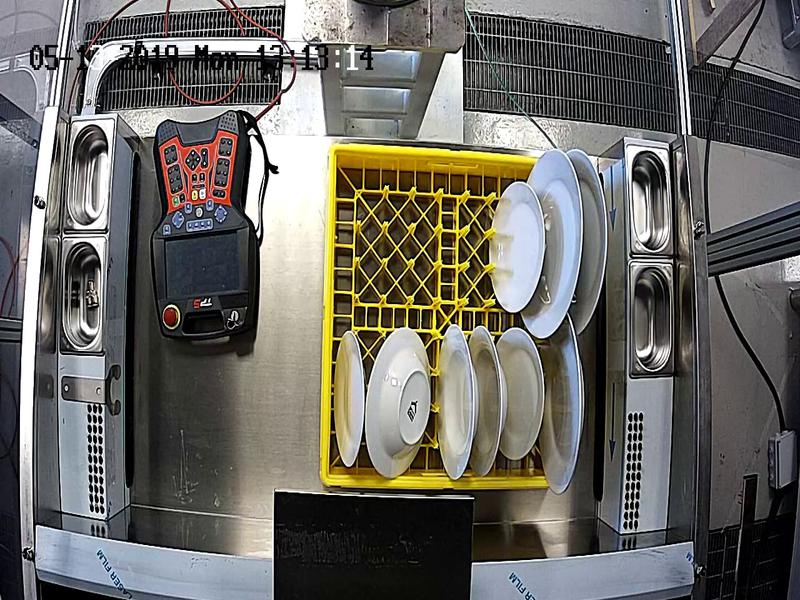Dish: (536, 150, 580, 330), (490, 178, 545, 312), (543, 320, 586, 490), (435, 325, 477, 476), (505, 321, 544, 457), (476, 321, 509, 476), (583, 148, 608, 329), (332, 332, 363, 465)
Inclined_dish: (365, 326, 433, 479)
